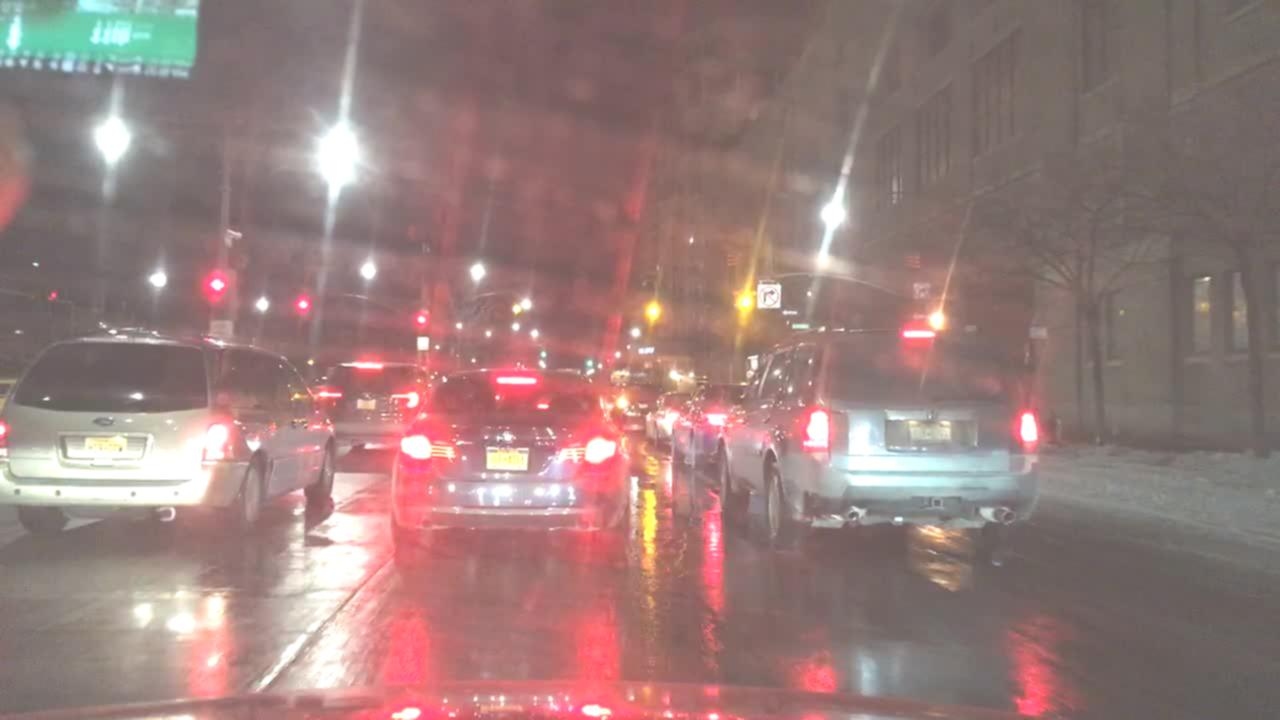bmw: (491, 429, 525, 450)
